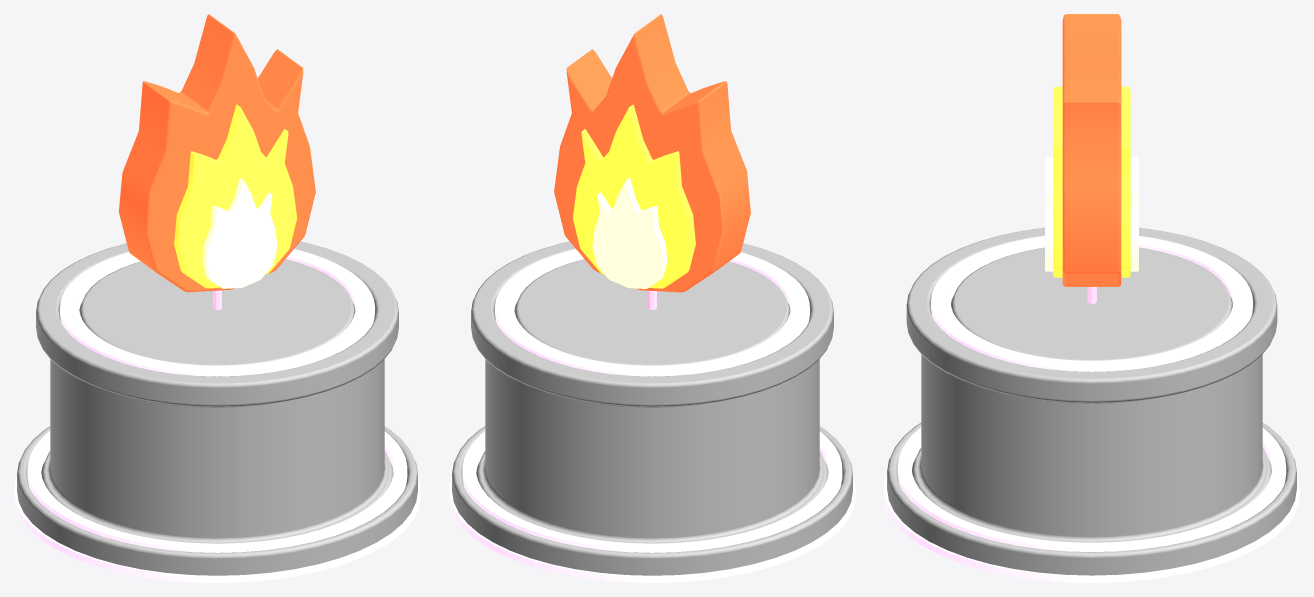
The model's file is Lobby_PED_Flame.fbx.
3 renders of one model, left to right at view 1: azimuth 30°, elevation 25°; view 2: azimuth 150°, elevation 25°; view 3: azimuth 270°, elevation 25°, orthographic. The views are drawn at different scales.
Visible parts, largest first — view 1: Lobby_PED_Flame__PedestalMarble, Lobby_PED_Flame__Glyph_FlameRed, Lobby_PED_Flame__PedNeon_Flame, Lobby_PED_Flame__Glyph_FlameOrange, Lobby_PED_Flame__Glyph_FlameYellow; view 2: Lobby_PED_Flame__PedestalMarble, Lobby_PED_Flame__Glyph_FlameRed, Lobby_PED_Flame__PedNeon_Flame, Lobby_PED_Flame__Glyph_FlameOrange, Lobby_PED_Flame__Glyph_FlameYellow; view 3: Lobby_PED_Flame__PedestalMarble, Lobby_PED_Flame__PedNeon_Flame, Lobby_PED_Flame__Glyph_FlameRed, Lobby_PED_Flame__Glyph_FlameOrange, Lobby_PED_Flame__Glyph_FlameYellow.
Boxes of the visible parts, box(x1,y1,x2,y2) form: Lobby_PED_Flame__PedestalMarble: box(17, 241, 417, 575); Lobby_PED_Flame__Glyph_FlameRed: box(118, 14, 315, 292); Lobby_PED_Flame__PedNeon_Flame: box(14, 249, 420, 582); Lobby_PED_Flame__Glyph_FlameOrange: box(174, 104, 297, 288); Lobby_PED_Flame__Glyph_FlameYellow: box(202, 177, 277, 288); Lobby_PED_Flame__PedestalMarble: box(452, 241, 852, 575); Lobby_PED_Flame__Glyph_FlameRed: box(554, 14, 750, 292); Lobby_PED_Flame__PedNeon_Flame: box(449, 249, 855, 582); Lobby_PED_Flame__Glyph_FlameOrange: box(572, 104, 695, 288); Lobby_PED_Flame__Glyph_FlameYellow: box(592, 177, 667, 288); Lobby_PED_Flame__PedestalMarble: box(887, 227, 1296, 575); Lobby_PED_Flame__PedNeon_Flame: box(884, 236, 1299, 582); Lobby_PED_Flame__Glyph_FlameRed: box(1062, 14, 1121, 286); Lobby_PED_Flame__Glyph_FlameOrange: box(1053, 86, 1130, 277); Lobby_PED_Flame__Glyph_FlameYellow: box(1045, 157, 1138, 271).
Bounding box in the file's own units: 4.26 × 5.48 × 4.26.
